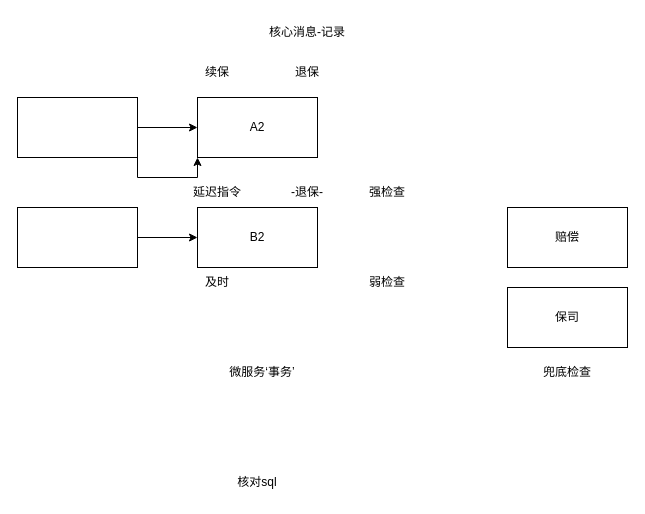
The diagram is 645 pixels wide and 514 high, and some of its shapes have lost their labels. Each missing label, with the box of its shape:
A1: (16, 96, 138, 158)
B1: (16, 206, 138, 268)
